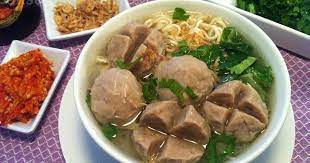bakso: (93, 15, 270, 156)
